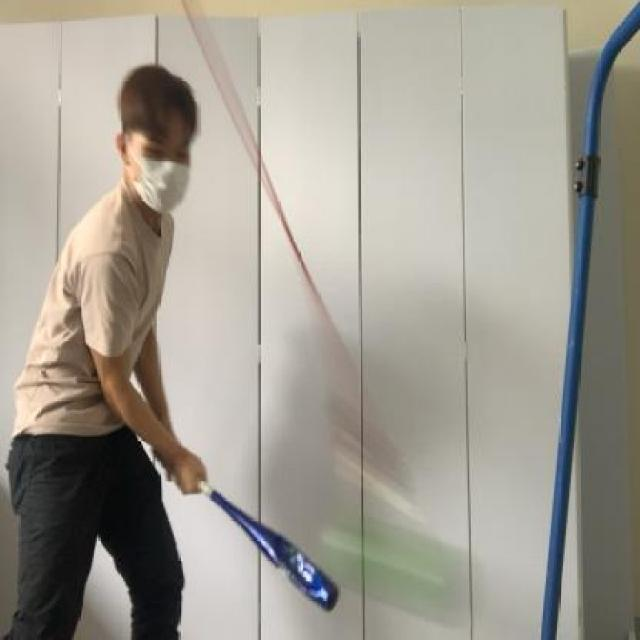baseball: (320, 499, 488, 633)
